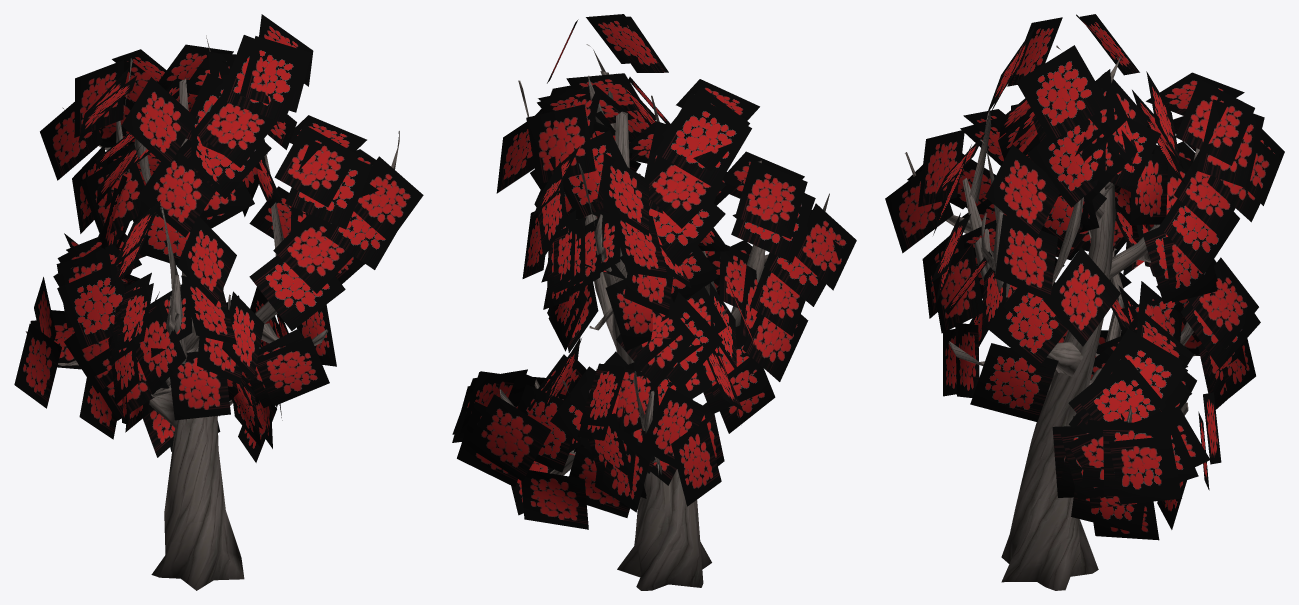
File: tree-late-3-mature.glb
The picture shows the model from 3 angles, left to right: view 1: azimuth 30°, elevation 25°; view 2: azimuth 150°, elevation 25°; view 3: azimuth 270°, elevation 25°; orthographic projection. The views are drawn at different scales.
Parts seen in each view (by area): view 1: TwistedTree_3; view 2: TwistedTree_3; view 3: TwistedTree_3.
Part boxes in pixels (<box>): TwistedTree_3: <box>14,14,423,590</box>; TwistedTree_3: <box>452,14,856,590</box>; TwistedTree_3: <box>885,14,1284,590</box>.
Bounding box in the file's own units: 3.62 × 5.96 × 3.82.
Materials: 2 (2 with a texture image).
